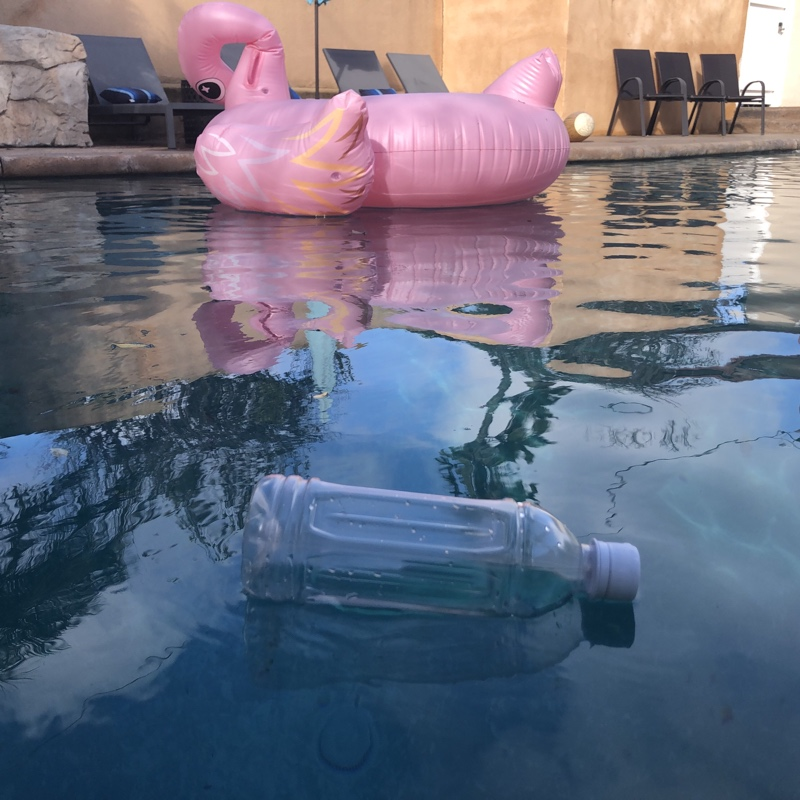Plastic Bottle: (237, 469, 647, 628)
